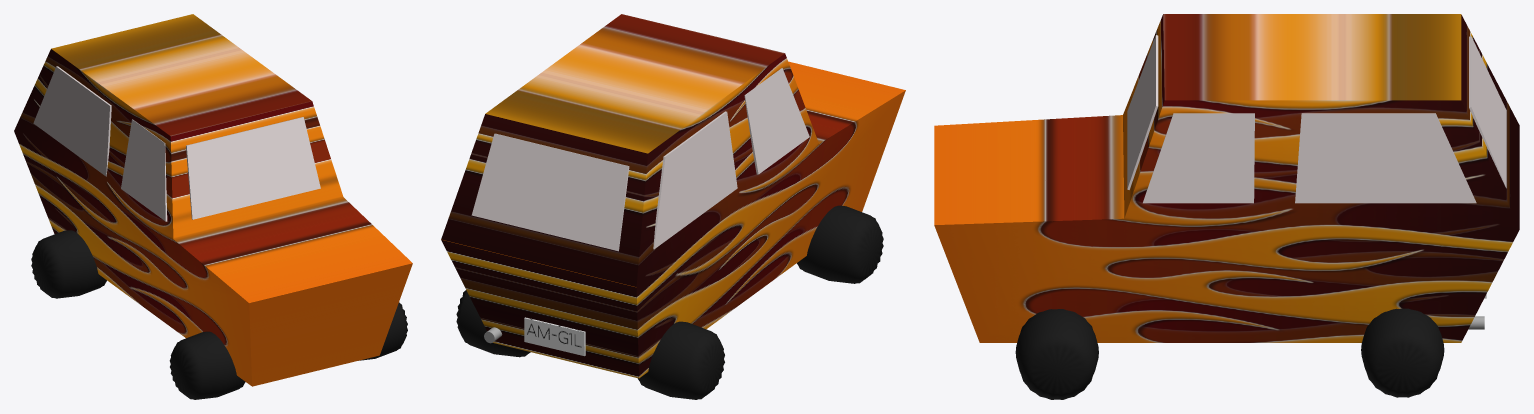
File: BoxCar.fbx
3 renders of one model, left to right at view 1: azimuth 30°, elevation 25°; view 2: azimuth 150°, elevation 25°; view 3: azimuth 270°, elevation 25°, orthographic. The views are drawn at different scales.
Parts seen in each view (by area): view 1: Base, window1, window4, wheel1, wheel2, window5, wheel3; view 2: Base, window6, window4, wheel1, wheel2, window5, pCube1, wheel4; view 3: Base, window2, window3, wheel3, wheel4, window6, window1.
Boxes of the visible parts, x1=… form: Base: x1=14, y1=14, x2=412, y2=386; window1: x1=186, y1=117, x2=320, y2=219; window4: x1=33, y1=66, x2=111, y2=176; wheel1: x1=31, y1=230, x2=106, y2=298; wheel2: x1=169, y1=331, x2=245, y2=399; window5: x1=121, y1=119, x2=167, y2=221; wheel3: x1=358, y1=302, x2=407, y2=360; Base: x1=441, y1=14, x2=905, y2=378; window6: x1=471, y1=133, x2=629, y2=251; window4: x1=653, y1=111, x2=737, y2=249; wheel1: x1=638, y1=321, x2=724, y2=399; wheel2: x1=797, y1=205, x2=883, y2=283; window5: x1=744, y1=68, x2=809, y2=174; pCube1: x1=524, y1=317, x2=585, y2=356; wheel4: x1=456, y1=290, x2=530, y2=357; Base: x1=934, y1=14, x2=1519, y2=342; window2: x1=1295, y1=113, x2=1476, y2=203; window3: x1=1143, y1=113, x2=1254, y2=203; wheel3: x1=1015, y1=309, x2=1098, y2=399; wheel4: x1=1361, y1=308, x2=1444, y2=397; window6: x1=1469, y1=36, x2=1506, y2=188; window1: x1=1127, y1=35, x2=1158, y2=189.
Size of the model in its own units: 7.37 by 7.39 by 13.89.
Materials: 5 (2 with a texture image).
